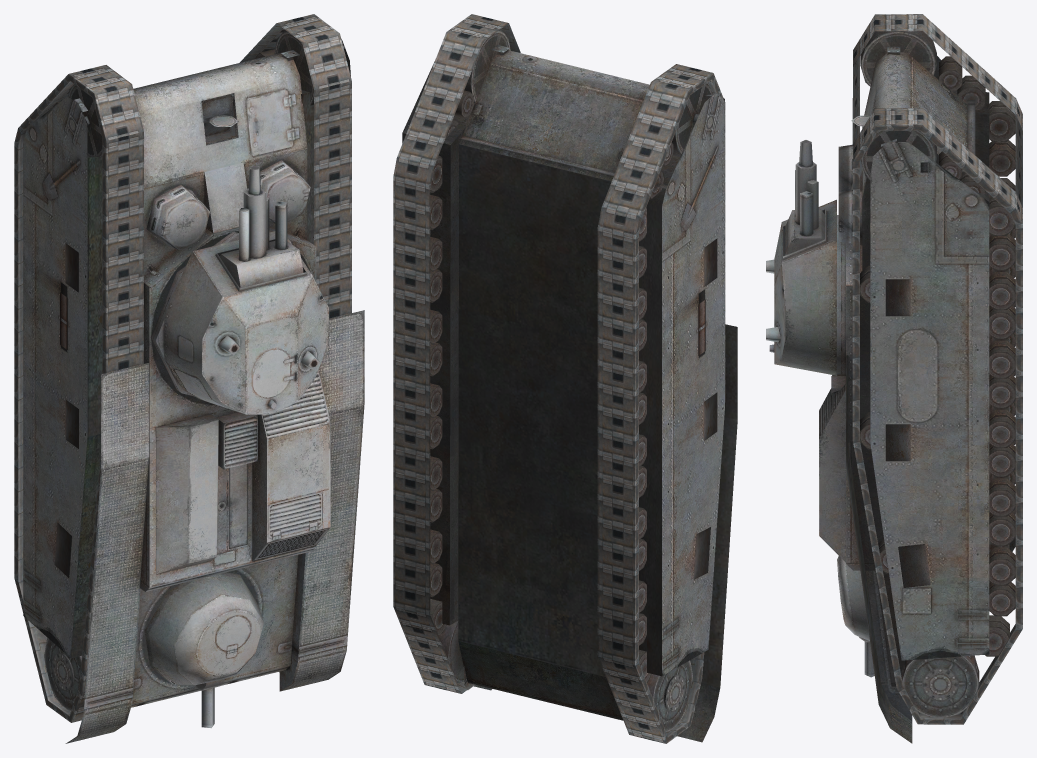
The picture shows the model from 3 angles, left to right: view 1: azimuth 30°, elevation 25°; view 2: azimuth 150°, elevation 25°; view 3: azimuth 270°, elevation 25°; orthographic projection. The views are drawn at different scales.
Parts seen in each view (by area): view 1: hull, chassis_track_L, turret_01, chassis_track_R, gun_01, chassis_wheel_L_20, chassis_wheel_L_01, chassis_wheel_R_01; view 2: hull, chassis_track_L, chassis_track_R, chassis_wheel_L_20, chassis_wheel_R_01, chassis_wheel_L_01, chassis_wheel_R_20; view 3: hull, chassis_track_R, turret_01, chassis_track_L, chassis_wheel_R_20, gun_01, chassis_wheel_L_01, chassis_wheel_R_01, chassis_wheel_L_04, chassis_wheel_R_14, chassis_wheel_R_17, chassis_wheel_R_09 (+13 smaller).
Part boxes in pixels (x1,y1,x2,y2): hull: (23, 39, 364, 743); chassis_track_L: (14, 65, 143, 722); turret_01: (164, 231, 328, 414); chassis_track_R: (239, 14, 351, 672); gun_01: (219, 165, 303, 288); chassis_wheel_L_20: (44, 638, 81, 710); chassis_wheel_L_01: (68, 84, 102, 157); chassis_wheel_R_01: (274, 30, 313, 105); hull: (402, 45, 737, 742); chassis_track_L: (597, 64, 725, 743); chassis_track_R: (393, 14, 520, 693); chassis_wheel_L_20: (647, 660, 692, 731); chassis_wheel_R_01: (464, 29, 510, 103); chassis_wheel_L_01: (671, 82, 712, 156); chassis_wheel_R_20: (439, 621, 463, 682); hull: (819, 46, 989, 743); chassis_track_R: (852, 108, 1022, 724); turret_01: (766, 199, 836, 375); chassis_track_L: (852, 14, 1022, 582); chassis_wheel_R_20: (901, 655, 979, 717); gun_01: (785, 140, 824, 255); chassis_wheel_L_01: (860, 31, 936, 86); chassis_wheel_R_01: (860, 130, 936, 180); chassis_wheel_L_04: (989, 101, 1015, 142); chassis_wheel_R_14: (989, 478, 1015, 516); chassis_wheel_R_17: (989, 547, 1015, 585); chassis_wheel_R_09: (989, 340, 1015, 378).
Size of the model in its own units: 2.67 by 6.37 by 2.41.
2 materials, 2 textured.
